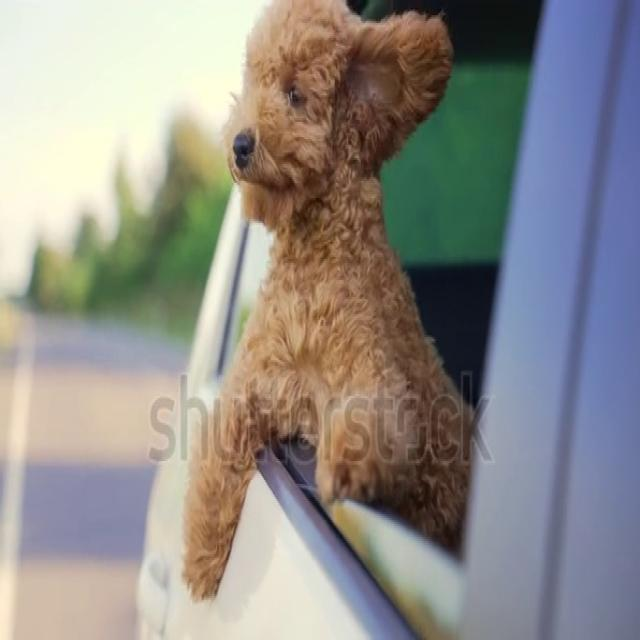normal_animals: (176, 2, 479, 604)
